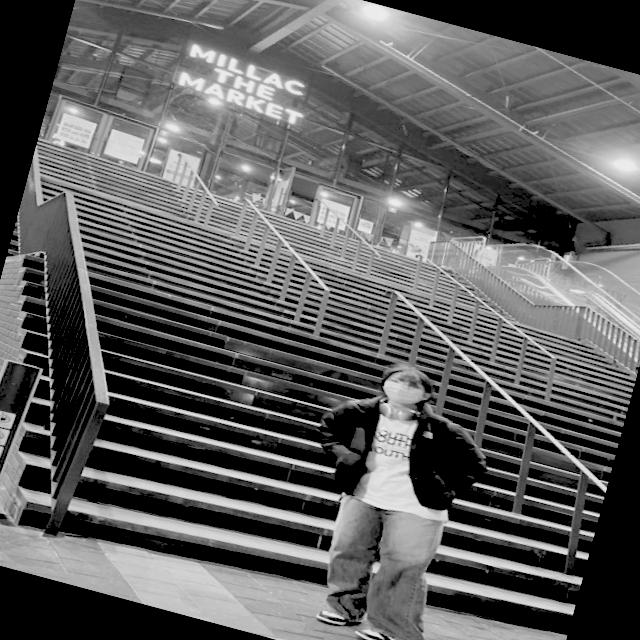denimpants: (306, 487, 453, 640)
padding: (303, 378, 499, 526)
